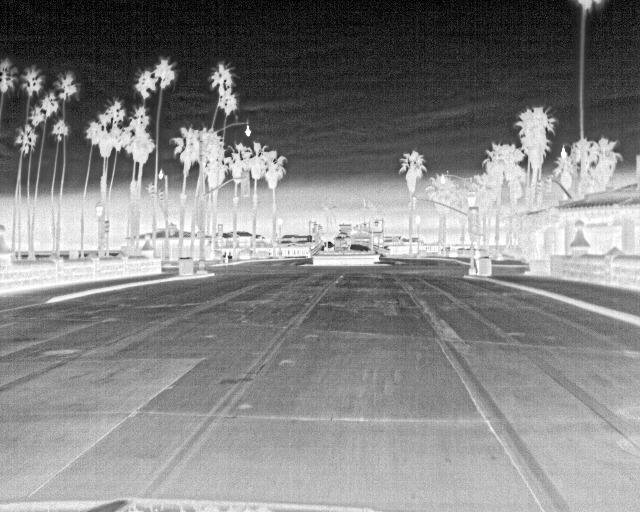car: (324, 243, 334, 251)
light: (470, 206, 479, 234), (241, 172, 250, 197), (535, 182, 542, 199), (545, 177, 552, 192), (150, 182, 155, 198), (104, 220, 109, 233), (218, 224, 223, 237), (411, 196, 416, 209), (170, 225, 175, 235), (159, 191, 163, 200)
sign: (307, 235, 312, 242)
